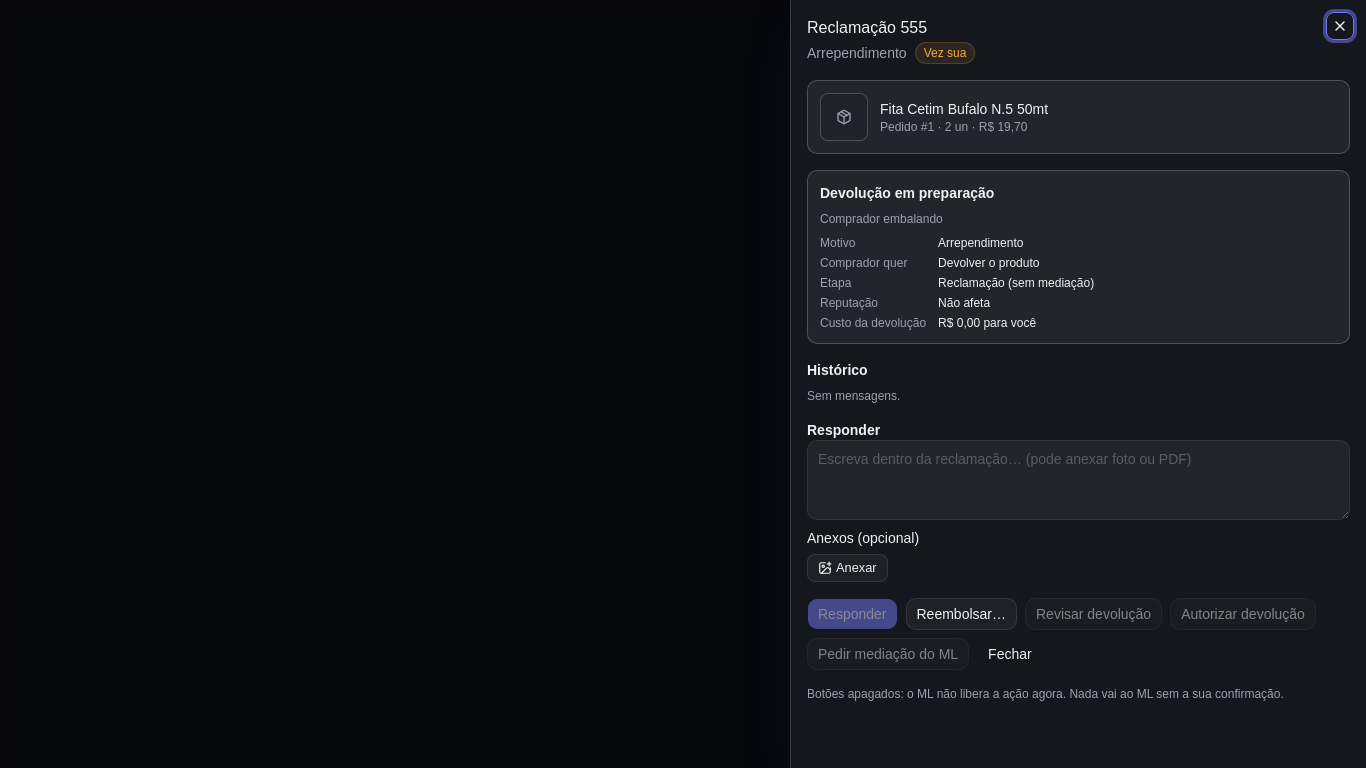
Test case: 5. reembolso por opção liberada › só o total liberado: parcial não é oferecido e o total vem selecionado
The image size is (1366, 768).
Click the button "Reembolsar…" at (961, 614), box [906,598,1017,630]
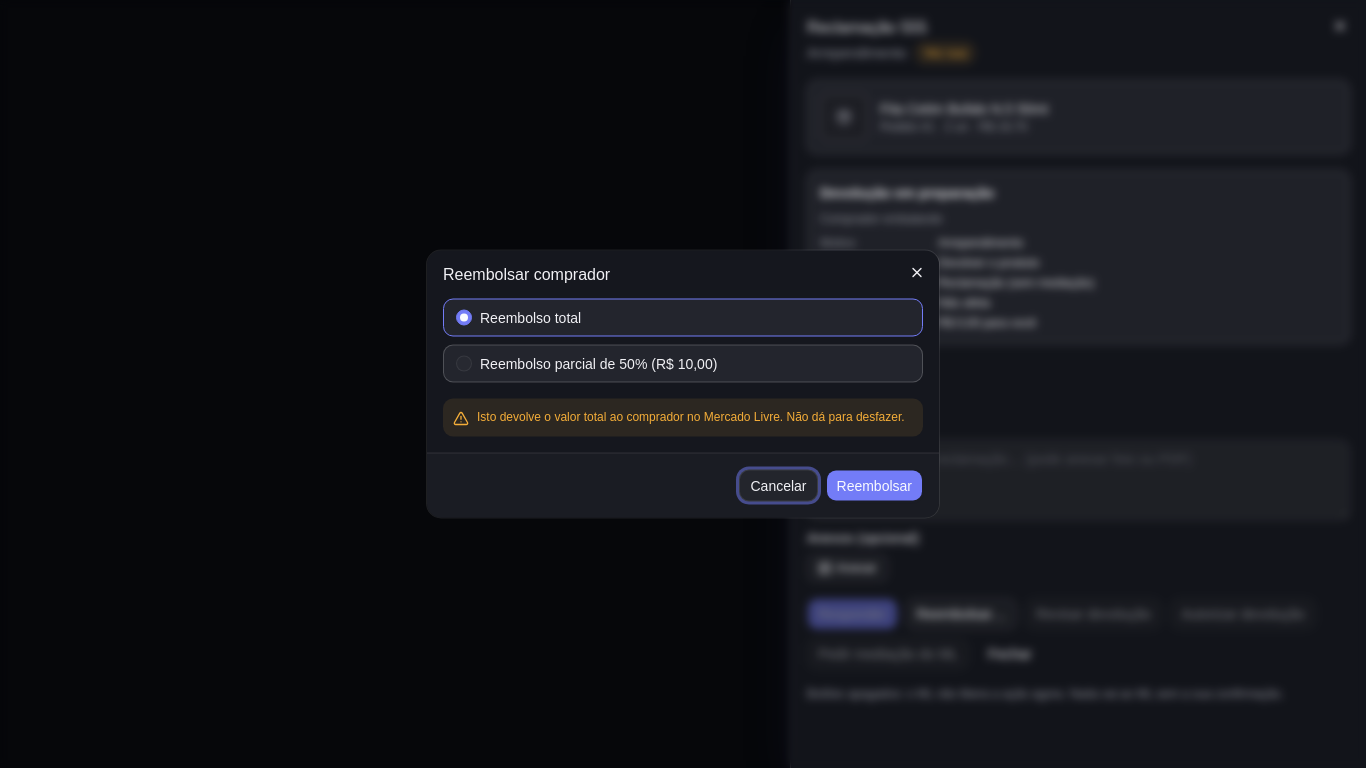
Check: the radio button named "Reembolso total" next to "Reembolso total" is checked, box [456,310,472,326]
